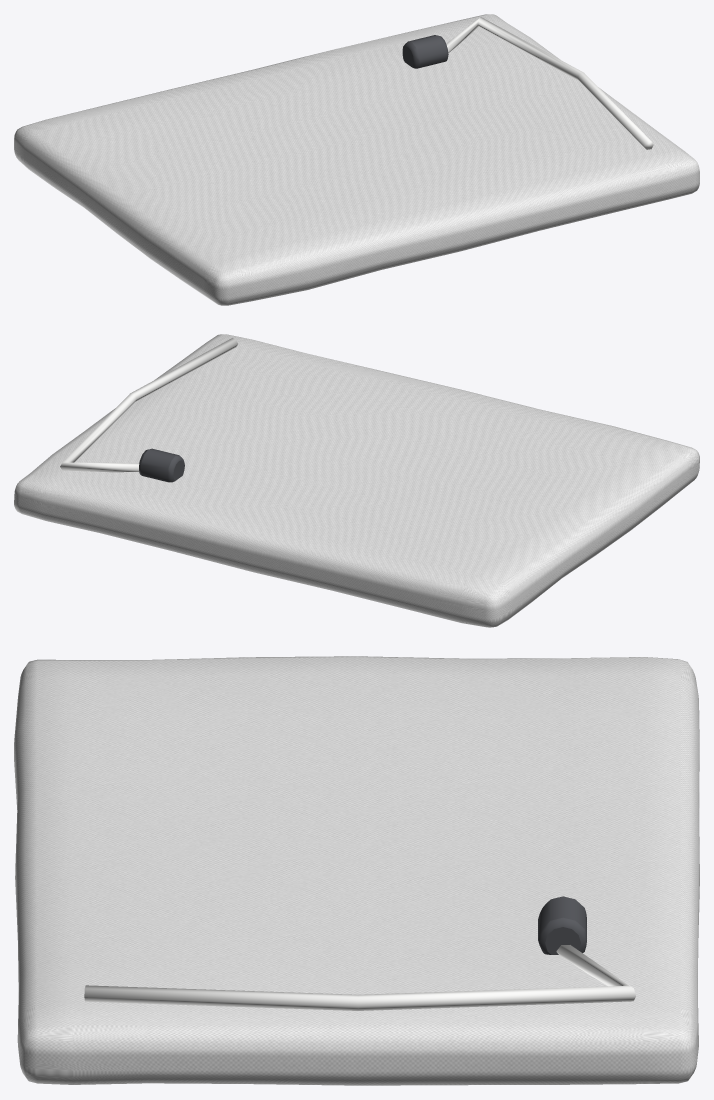
Rendered from laundry_bag.glb.
3 views of the same model, one above another, from view 1: azimuth 30°, elevation 25°; view 2: azimuth 150°, elevation 25°; view 3: azimuth 270°, elevation 25° (orthographic). The views are drawn at different scales.
Visible parts, largest first — view 1: lbag_body, lbag_cord, lbag_toggle; view 2: lbag_body, lbag_cord, lbag_toggle; view 3: lbag_body, lbag_cord, lbag_toggle.
Boxes of the visible parts, x1,y1,x2,y2 form: lbag_body: [14, 14, 699, 305]; lbag_cord: [446, 17, 653, 149]; lbag_toggle: [402, 35, 448, 68]; lbag_body: [14, 334, 699, 627]; lbag_cord: [60, 338, 237, 472]; lbag_toggle: [139, 448, 184, 482]; lbag_body: [14, 656, 699, 1085]; lbag_cord: [84, 945, 635, 1010]; lbag_toggle: [538, 896, 586, 954].
Size of the model in its own units: 20.07 by 2.48 by 15.08.
3 materials, 1 textured.
